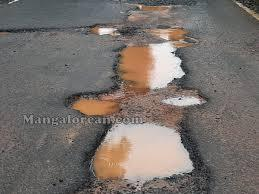pothole: (63, 20, 211, 186)
